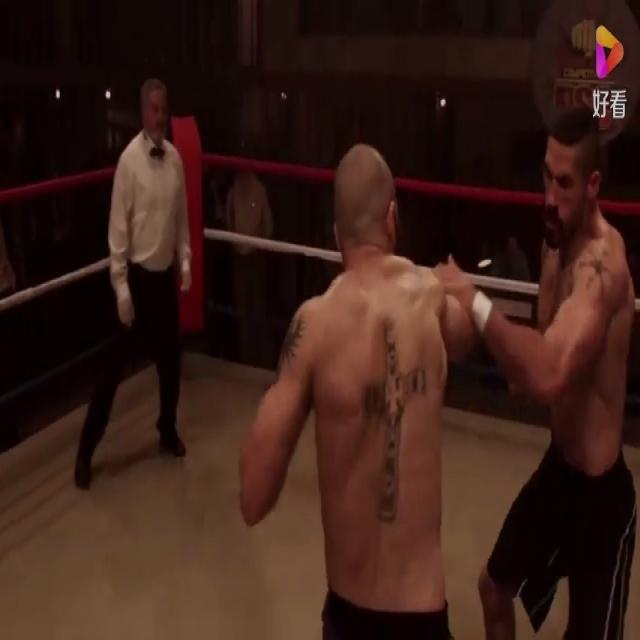fight: (228, 111, 639, 638)
non-fight: (77, 64, 196, 495)
